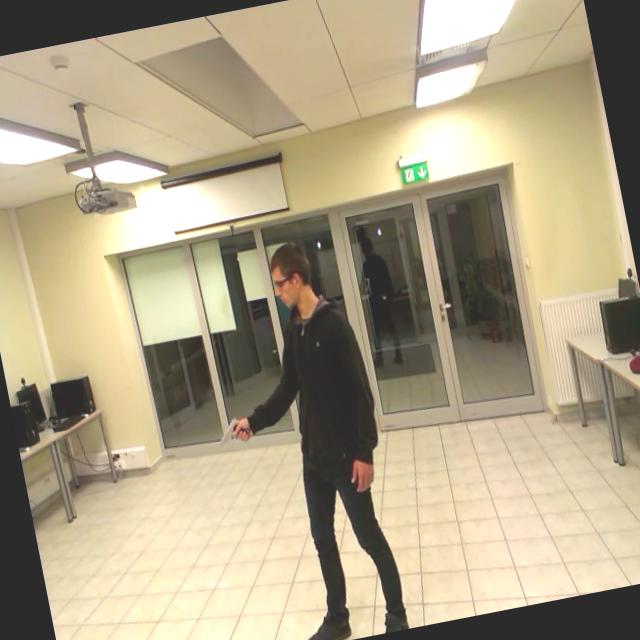handgun: (209, 403, 260, 466)
